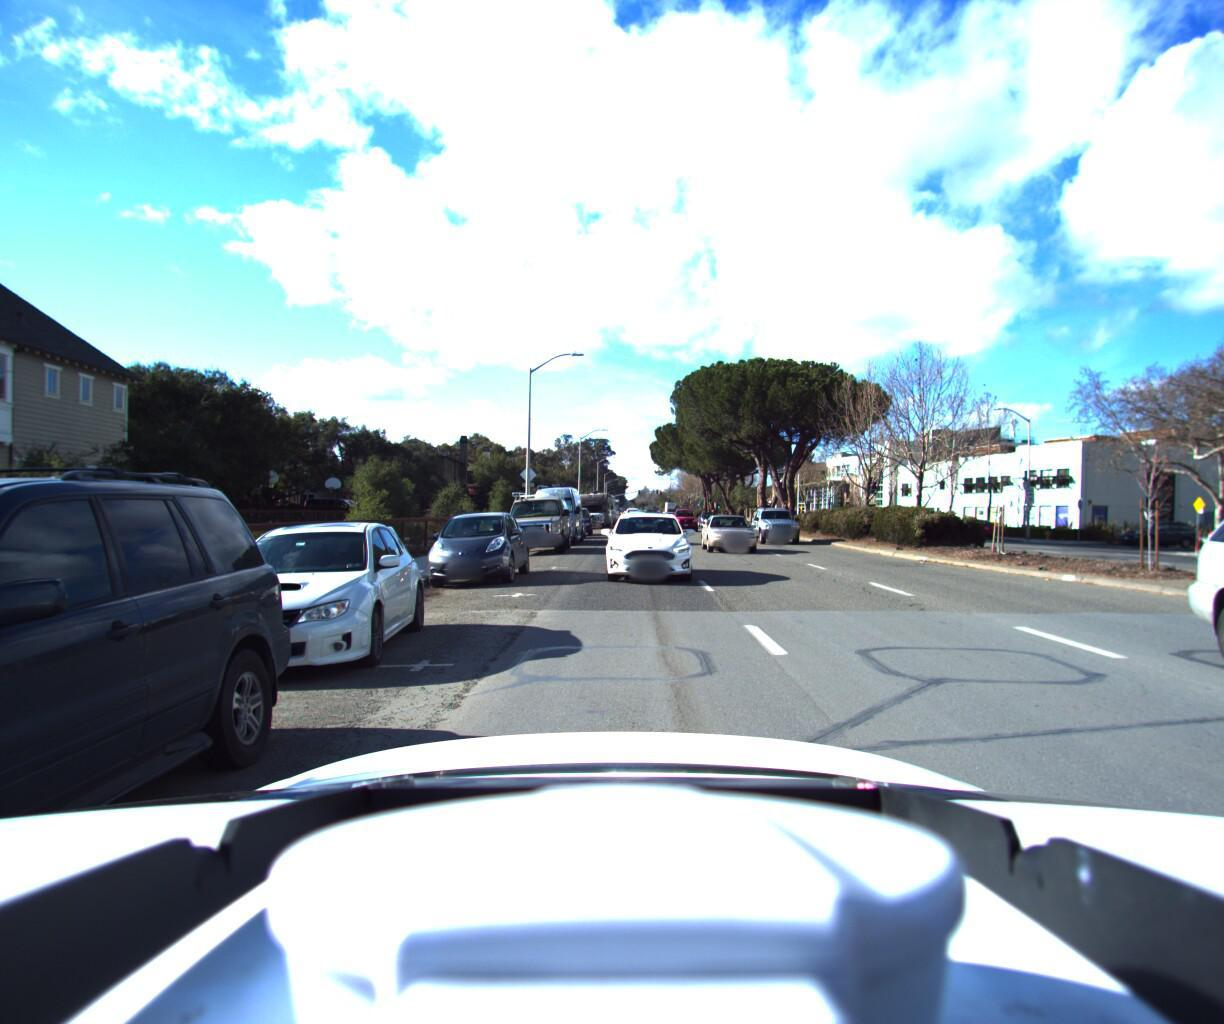car: (0, 349, 311, 1024), (142, 518, 435, 694), (417, 505, 535, 593), (601, 513, 694, 590), (502, 486, 574, 559), (528, 478, 587, 549), (698, 513, 766, 561), (749, 506, 808, 548), (1113, 521, 1198, 548), (953, 519, 1002, 541), (672, 508, 703, 533)
other_vehicle: (574, 487, 613, 530)
